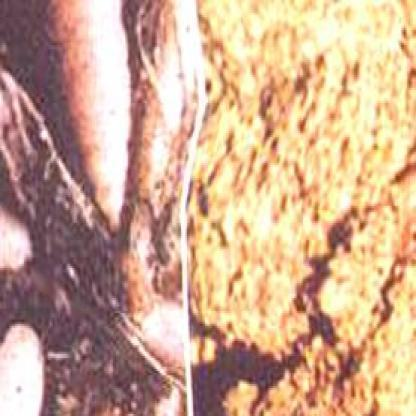whorl-maggot: (46, 0, 135, 240)
